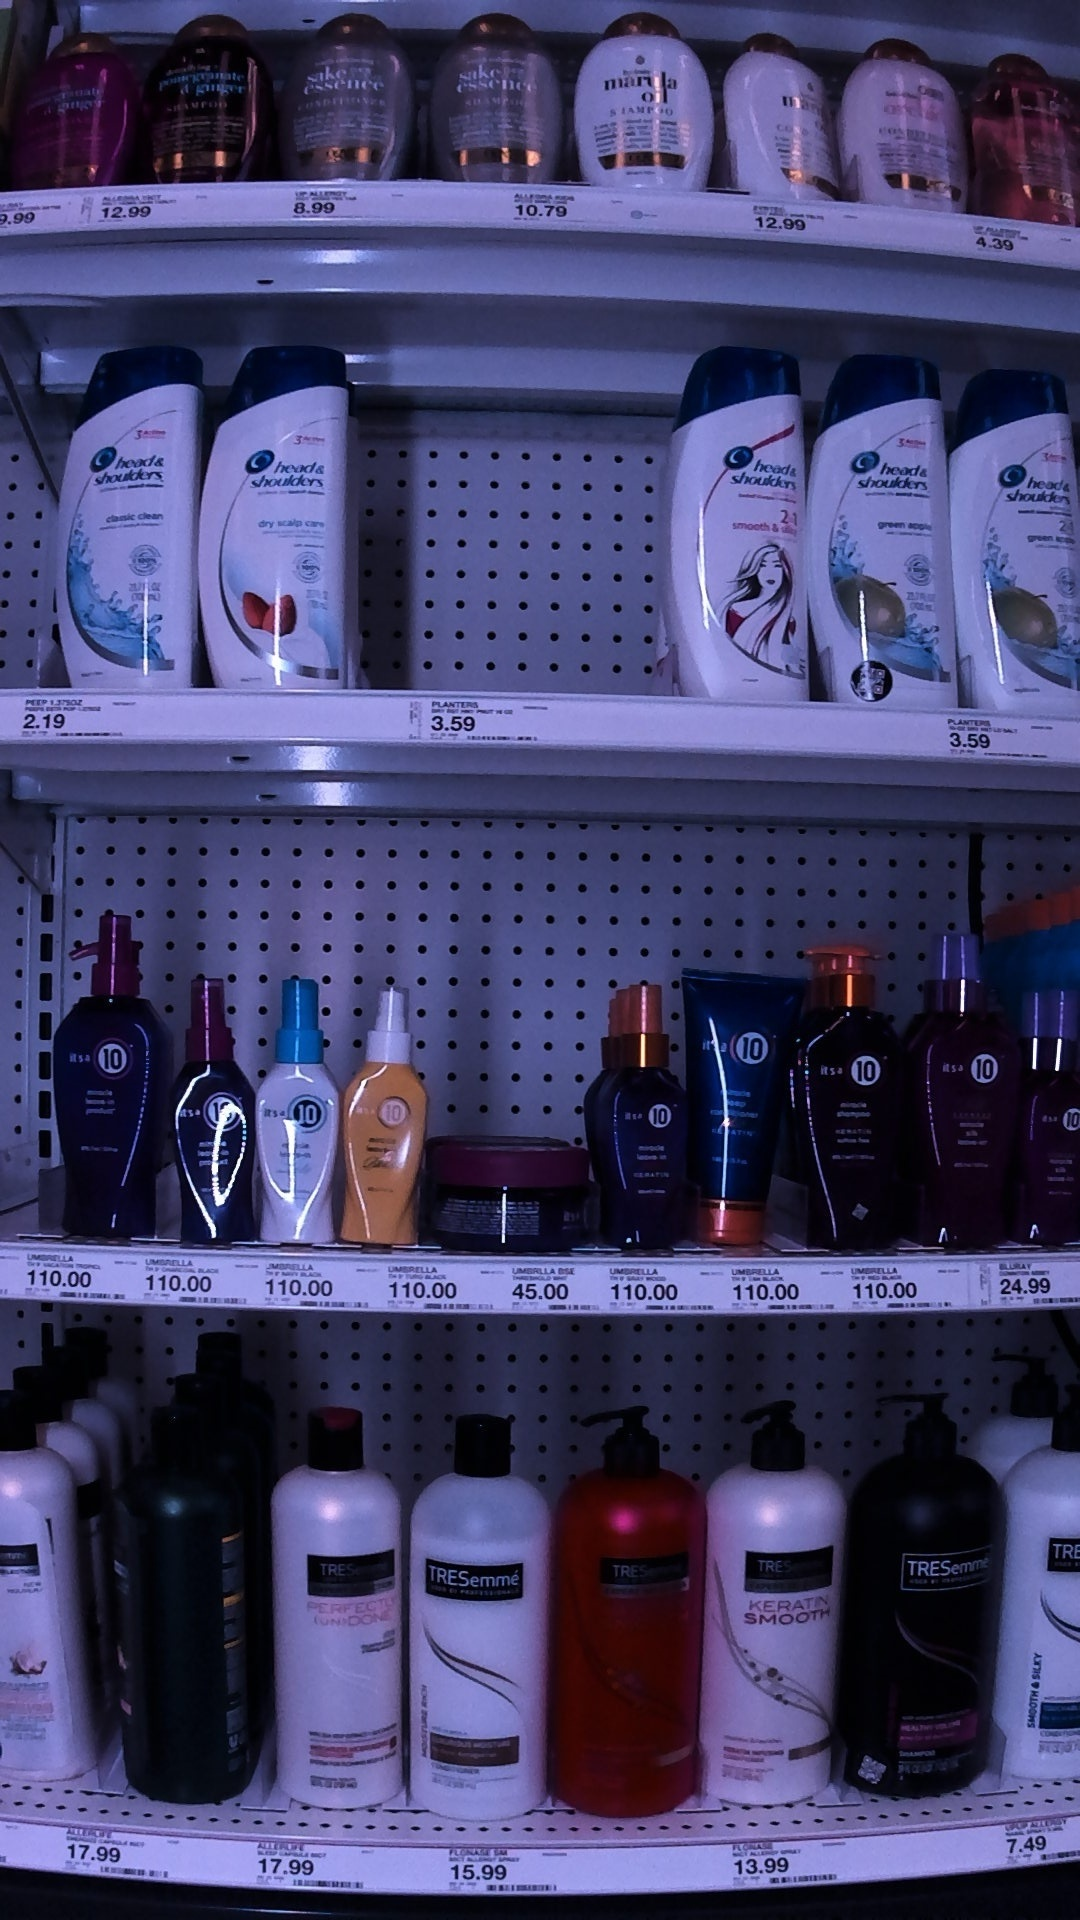ptag: (15, 1233, 129, 1311), (61, 1813, 179, 1888), (15, 682, 142, 746), (251, 1824, 378, 1888), (262, 1246, 378, 1317), (404, 688, 553, 744), (611, 1249, 720, 1323), (386, 1251, 491, 1327), (446, 1837, 568, 1900), (843, 1253, 960, 1315), (140, 1242, 240, 1315), (944, 711, 1075, 766), (715, 1253, 833, 1313), (504, 1251, 597, 1324), (724, 1837, 837, 1894), (86, 185, 198, 240), (986, 1251, 1077, 1313), (1, 186, 94, 244), (493, 185, 593, 237), (957, 215, 1054, 269), (276, 182, 386, 225), (998, 1815, 1080, 1873), (740, 204, 833, 251)
